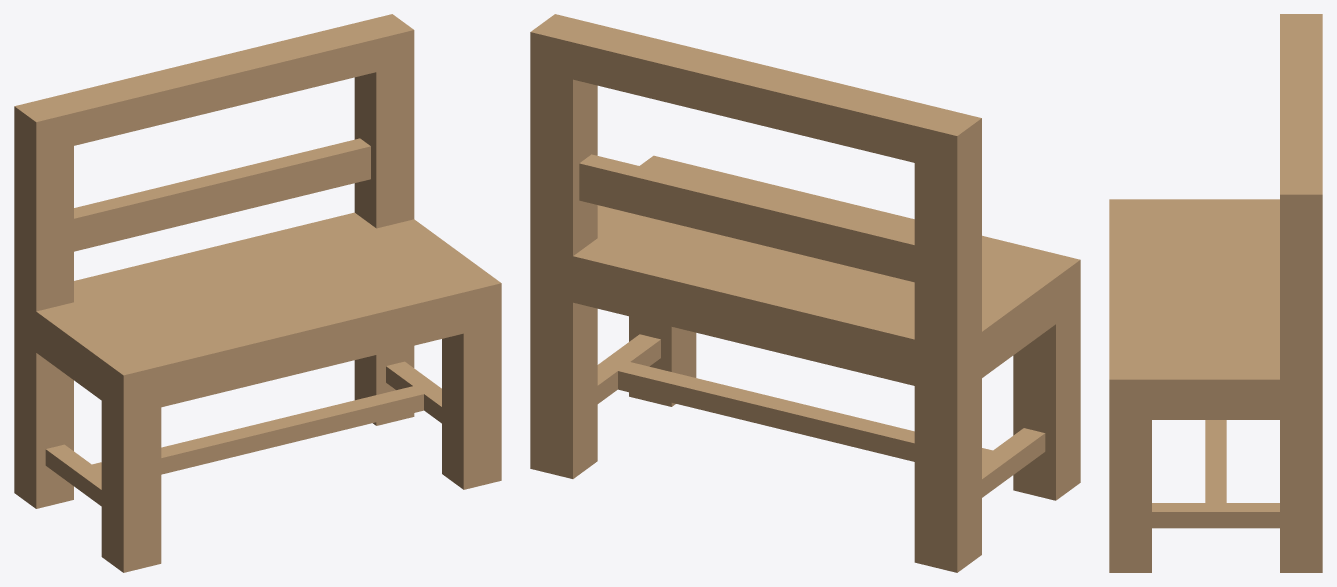
The model's file is bench.glb.
The picture shows the model from 3 angles, left to right: view 1: azimuth 30°, elevation 25°; view 2: azimuth 150°, elevation 25°; view 3: azimuth 270°, elevation 25°; orthographic projection. The views are drawn at different scales.
Visible parts, largest first — view 1: bench; view 2: bench; view 3: bench.
Boxes of the visible parts, left/top/right/bottom form: bench: left=14, top=14, right=501, bottom=572; bench: left=530, top=14, right=1080, bottom=572; bench: left=1109, top=14, right=1322, bottom=572.
Size of the model in its own units: 0.9 by 0.88 by 0.45.
